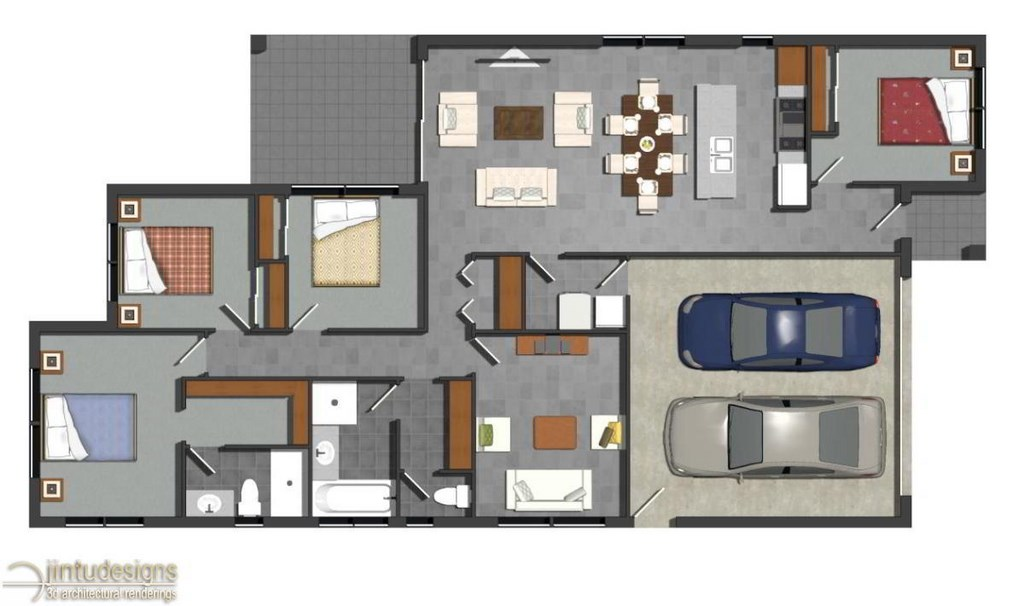room: (411, 30, 811, 264), (464, 325, 636, 530), (465, 323, 637, 528), (22, 319, 185, 533), (803, 28, 988, 204), (247, 179, 430, 339), (101, 178, 270, 339), (176, 372, 314, 544), (302, 372, 404, 535), (458, 252, 632, 342), (391, 373, 480, 535)
